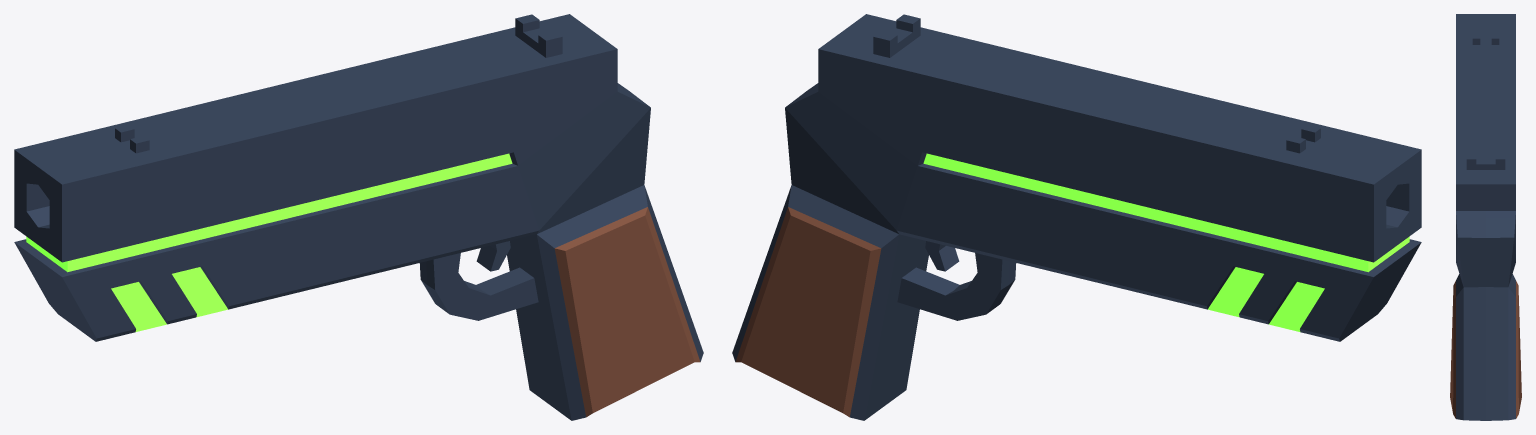
File: nug.fbx
3 views of the same model, side by side, from view 1: azimuth 30°, elevation 25°; view 2: azimuth 150°, elevation 25°; view 3: azimuth 270°, elevation 25° (orthographic). The views are drawn at different scales.
Parts seen in each view (by area): view 1: Cube; view 2: Cube; view 3: Cube.
Boxes of the visible parts, <box> form: Cube: <box>14,14,703,420</box>; Cube: <box>732,14,1421,420</box>; Cube: <box>1450,14,1521,420</box>.
Bounding box in the file's own units: 21.42 × 11.98 × 3.27.
